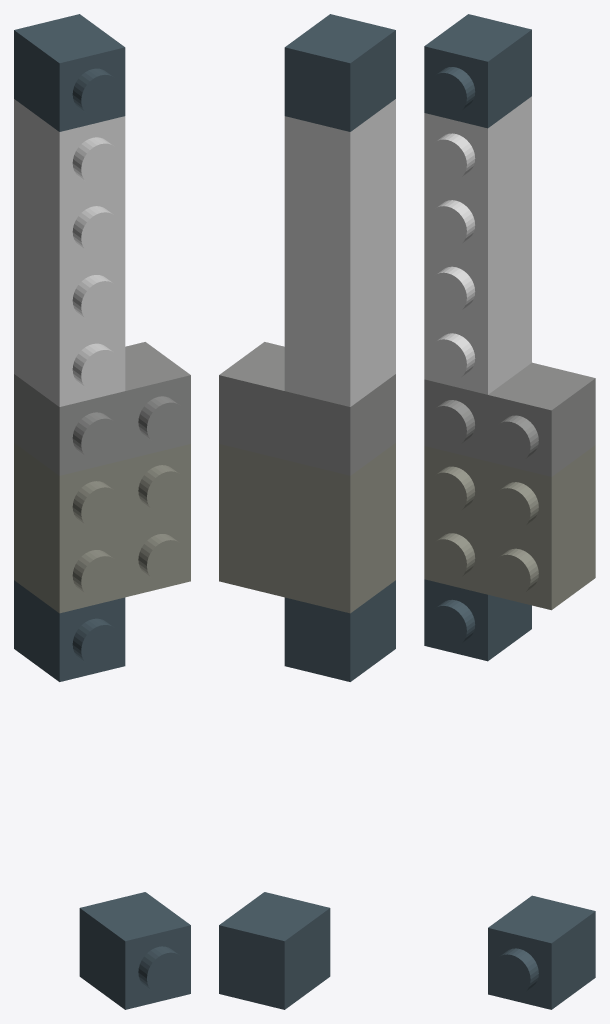
File: current.glb
3 views of the same model, side by side, from view 1: azimuth 30°, elevation 25°; view 2: azimuth 150°, elevation 25°; view 3: azimuth 330°, elevation 25° (orthographic). The views are drawn at different scales.
Visible parts, largest first — view 1: world; view 2: world; view 3: world.
Part boxes in pixels (left/top/right/bottom): world: left=14, top=14, right=190, bottom=1009; world: left=219, top=14, right=395, bottom=1009; world: left=424, top=14, right=595, bottom=1009.
Bounding box in the file's own units: 16 × 112 × 11.4.
